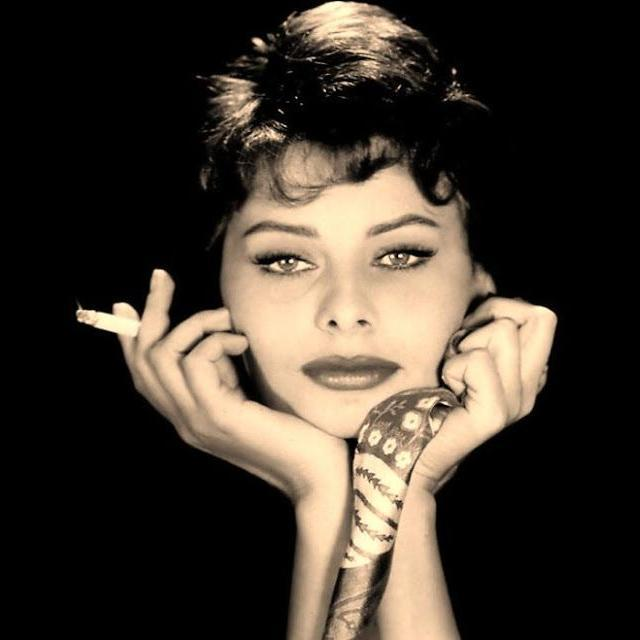rokok: (71, 302, 161, 342)
